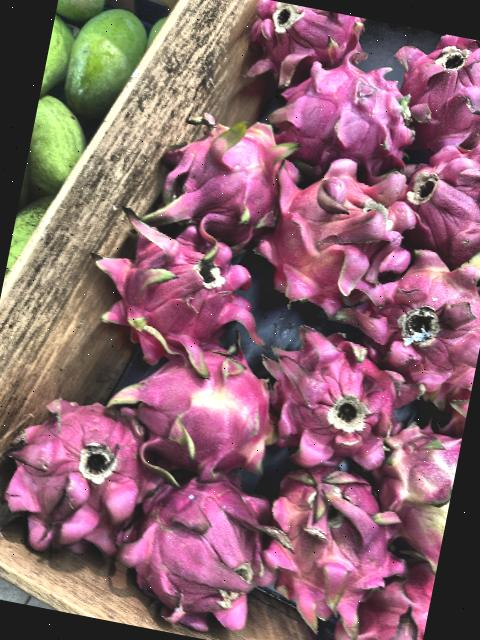buah-naga-belum-matang: (361, 406, 465, 562)
buah-naga-matang: (0, 385, 172, 580), (242, 458, 410, 640), (72, 200, 272, 352), (111, 466, 294, 632), (110, 321, 284, 485), (246, 316, 417, 472), (142, 107, 306, 254), (264, 160, 419, 311), (346, 238, 480, 390), (276, 52, 420, 186), (383, 135, 480, 274), (383, 30, 480, 155), (236, 0, 359, 81), (336, 561, 434, 640)
